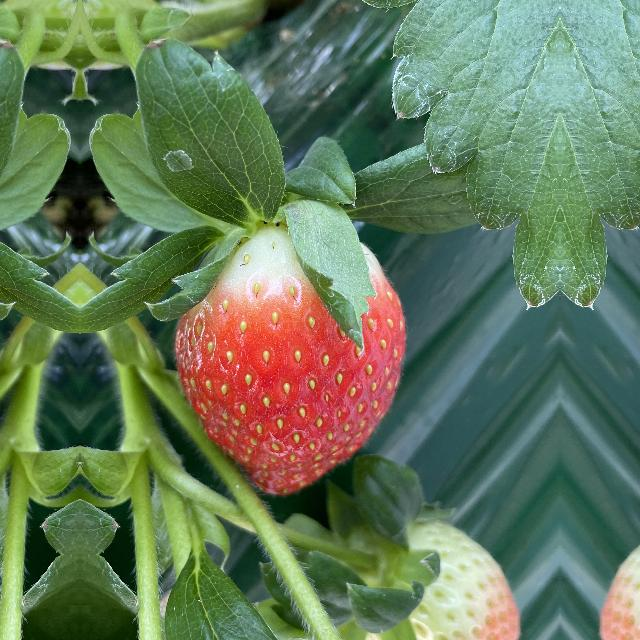Health_100: (175, 213, 409, 502)
Health_50: (323, 523, 534, 639), (585, 523, 640, 639)
